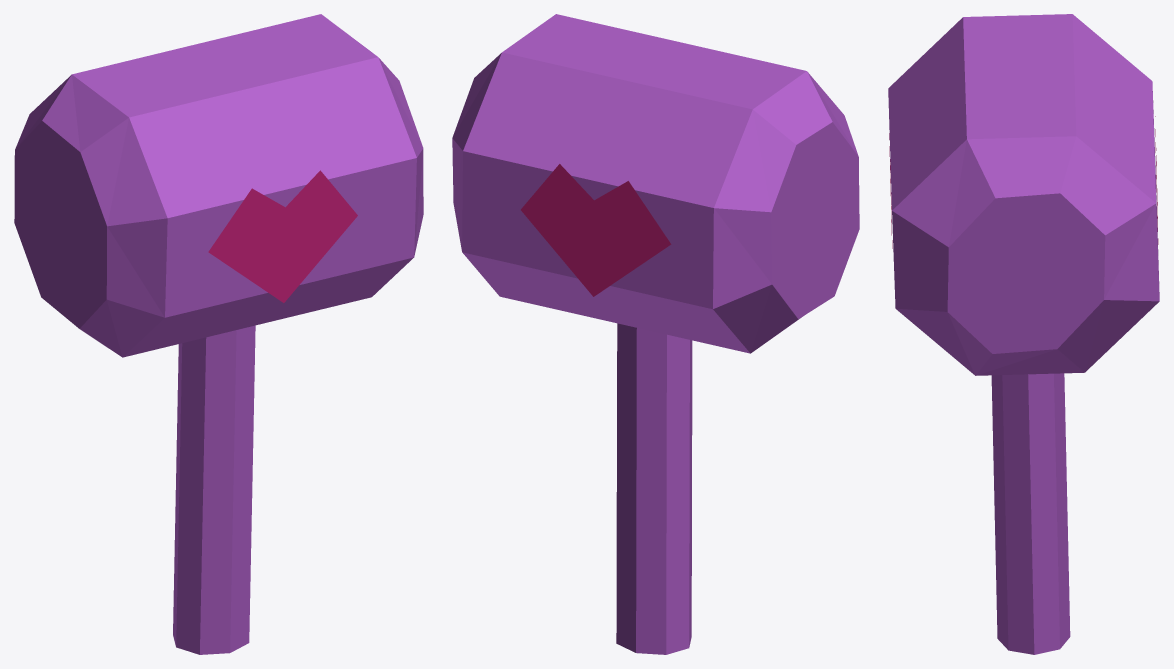
File: hanmer.obj
3 views of the same model, side by side, from view 1: azimuth 30°, elevation 25°; view 2: azimuth 150°, elevation 25°; view 3: azimuth 270°, elevation 25° (orthographic). The views are drawn at different scales.
Visible parts, largest first — view 1: ハンマー.002; view 2: ハンマー.002; view 3: ハンマー.002.
Part boxes in pixels (bbox=[...]): ハンマー.002: bbox=[14, 14, 423, 654]; ハンマー.002: bbox=[452, 14, 859, 654]; ハンマー.002: bbox=[888, 14, 1159, 654].
Bounding box in the file's own units: 1.87 × 3.17 × 1.38.
